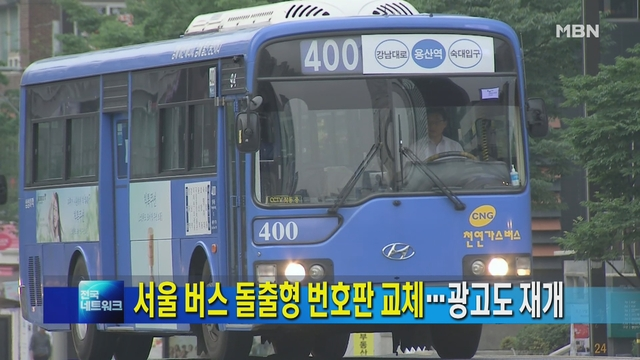bnum: (299, 36, 363, 74)
